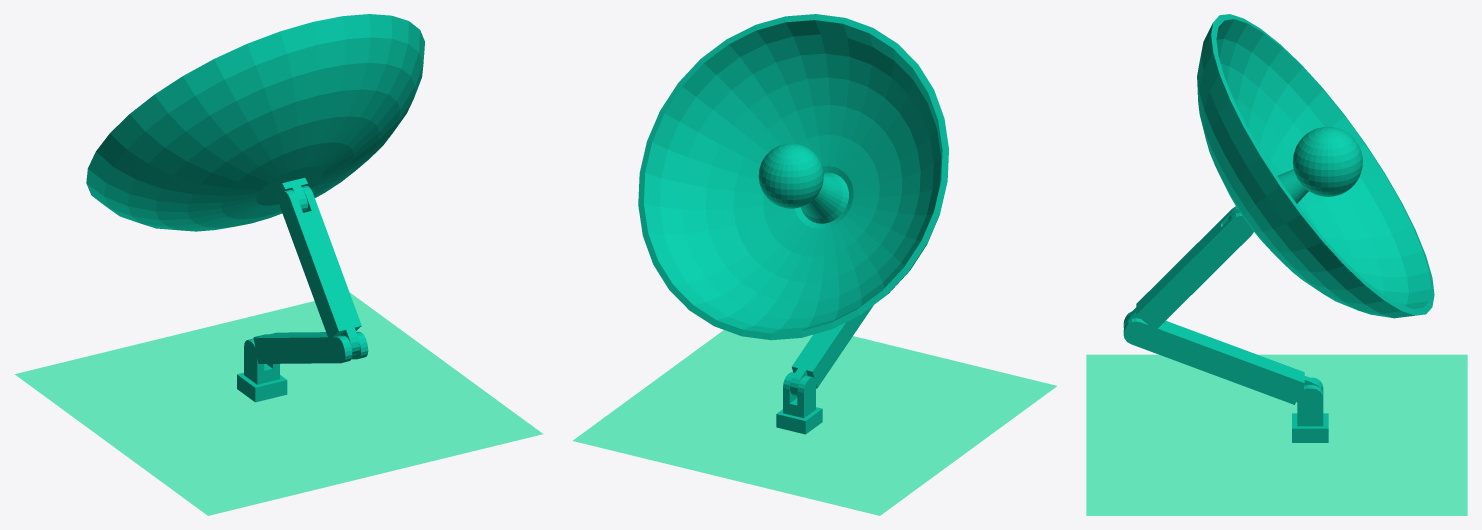
The model's file is small antenna_green.fbx.
3 views of the same model, side by side, from view 1: azimuth 30°, elevation 25°; view 2: azimuth 150°, elevation 25°; view 3: azimuth 270°, elevation 25° (orthographic). The views are drawn at different scales.
Parts seen in each view (by area): view 1: Plane, Sphere, Cube.005, Cube.004, Cube.001; view 2: Sphere, Plane, Sphere.002, Cube.004, Cube.001; view 3: Plane, Sphere, Cube.004, Cube.005, Sphere.002, Cube.001.
Boxes of the visible parts, x1,y1,x2,y2 form: Plane: (14, 292, 543, 515); Sphere: (86, 14, 424, 231); Cube.005: (279, 186, 361, 355); Cube.004: (253, 331, 368, 363); Cube.001: (237, 338, 287, 402); Sphere: (638, 14, 948, 340); Plane: (572, 330, 1056, 515); Sphere.002: (758, 143, 823, 208); Cube.004: (790, 305, 873, 396); Cube.001: (776, 372, 822, 434); Plane: (1086, 354, 1467, 515); Sphere: (1197, 14, 1434, 318); Cube.004: (1123, 311, 1322, 404); Cube.005: (1125, 206, 1253, 328); Sphere.002: (1292, 126, 1362, 196); Cube.001: (1292, 377, 1328, 442).
Size of the model in its own units: 500 by 585 by 500.
